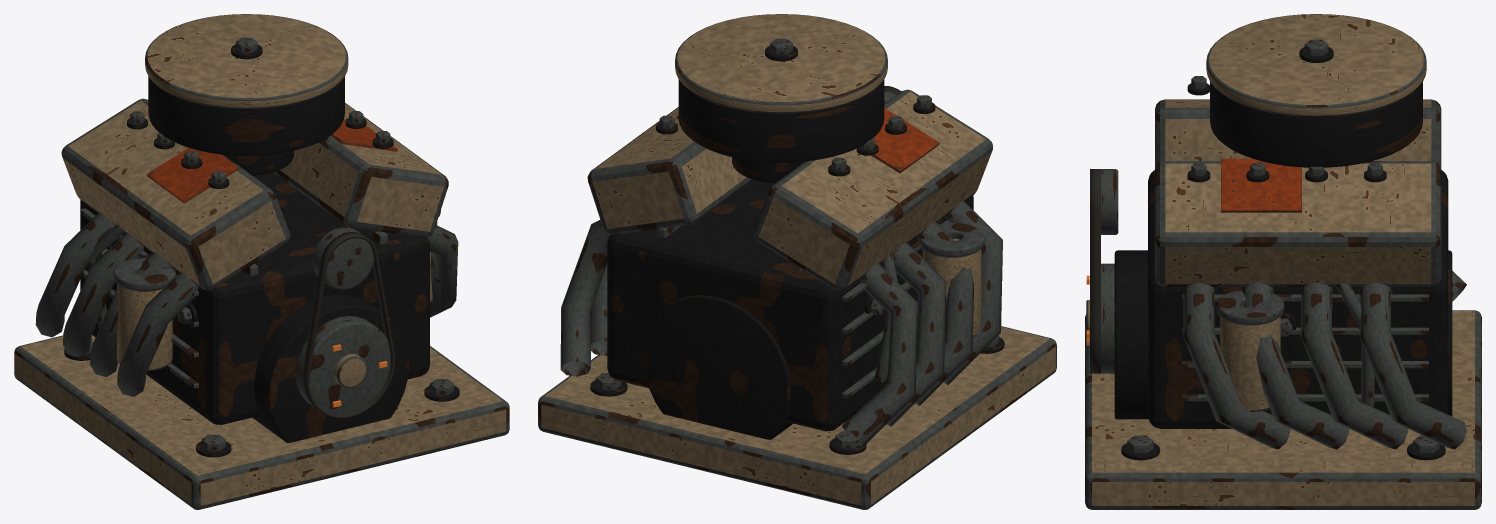
Rendered from 24_heavy_engine.glb.
3 views of the same model, side by side, from view 1: azimuth 30°, elevation 25°; view 2: azimuth 150°, elevation 25°; view 3: azimuth 270°, elevation 25° (orthographic). The views are drawn at different scales.
Parts seen in each view (by area): view 1: Fixed_Body_Geometry, Moving_EnginePulley_Geometry, Engine_Belt; view 2: Fixed_Body_Geometry; view 3: Fixed_Body_Geometry, Engine_Belt, Moving_EnginePulley_Geometry.
Part boxes in pixels (left/top/right/bottom): Fixed_Body_Geometry: left=14, top=14, right=509, bottom=509; Moving_EnginePulley_Geometry: left=296, top=316, right=390, bottom=414; Engine_Belt: left=302, top=232, right=395, bottom=418; Fixed_Body_Geometry: left=538, top=14, right=1056, bottom=509; Fixed_Body_Geometry: left=1085, top=14, right=1481, bottom=509; Engine_Belt: left=1090, top=169, right=1100, bottom=373; Moving_EnginePulley_Geometry: left=1086, top=263, right=1114, bottom=373.
Size of the model in its own units: 1.14 by 1.16 by 1.08.
6 materials, 4 textured.
